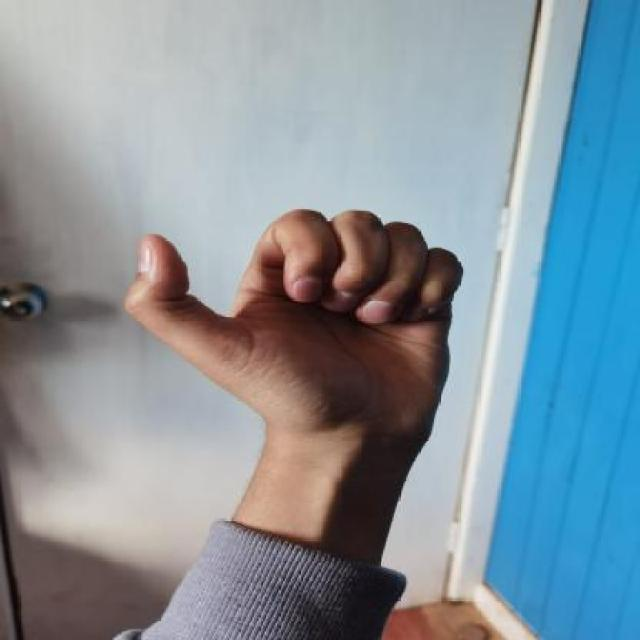E: (102, 185, 493, 466)
